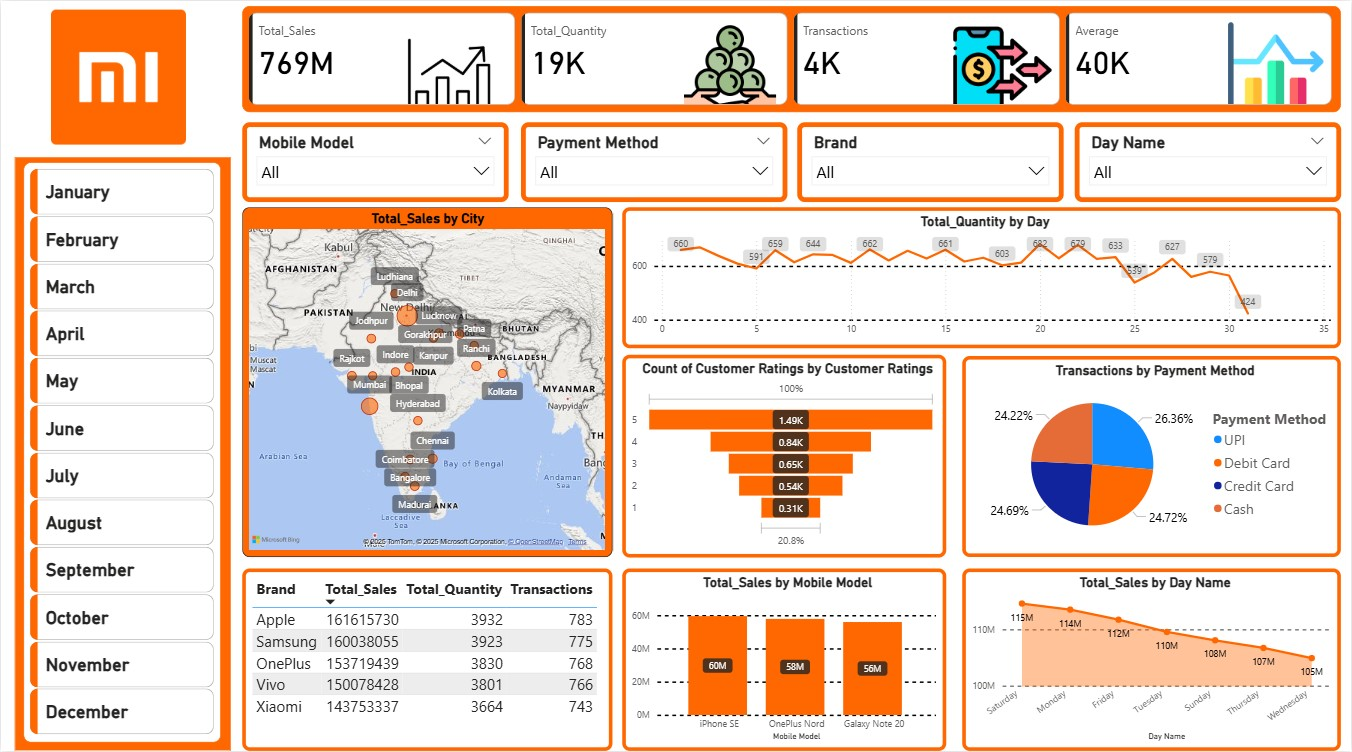

Layout of this report page (visuals, bound fields, positions):
{"tool":"powerbi","page":{"name":"Page 1","canvas":[1800,1000],"ordinal":0},"visuals":[{"type":"image","box":[6.7,6.7,300,190],"z":0},{"type":"shape","box":[18.3,208.3,288.3,791.7],"z":1000},{"type":"advancedSlicerVisual","fields":{"Values":["Mobile Sales Data.Date.Variation.Date Hierarchy.Month"]},"box":[30,215,263.3,773.3],"z":2000},{"type":"cardVisual","fields":{"Data":["Mobile Sales Data.Total_Sales","Mobile Sales Data.Total_Quantity","Mobile Sales Data.Transactions","Mobile Sales Data.Average"]},"box":[321.7,6.7,1465,141.7],"z":3000},{"type":"map","fields":{"Category":["Mobile Sales Data.City"],"Size":["Mobile Sales Data.Total_Sales"]},"box":[321.7,275,493.3,466.7],"z":4000},{"type":"lineChart","fields":{"Category":["Mobile Sales Data.Date.Variation.Date Hierarchy.Month","Mobile Sales Data.Date.Variation.Date Hierarchy.Day"],"Y":["Mobile Sales Data.Total_Quantity"]},"box":[828.3,275,958.3,188.3],"z":5000},{"type":"clusteredColumnChart","fields":{"Y":["Mobile Sales Data.Total_Sales"],"Category":["Mobile Sales Data.Mobile Model"]},"box":[828.3,756.7,431.7,243.3],"z":6000},{"type":"pieChart","fields":{"Category":["Mobile Sales Data.Payment Method"],"Y":["Mobile Sales Data.Transactions"]},"box":[1281.7,473.3,505,268.3],"z":7000},{"type":"funnel","fields":{"Category":["Mobile Sales Data.Customer Ratings"],"Y":["CountNonNull(Mobile Sales Data.Customer Ratings)"]},"box":[828.3,471.7,431.7,270],"z":8000},{"type":"areaChart","fields":{"Category":["Mobile Sales Data.Day Name"],"Y":["Mobile Sales Data.Total_Sales"]},"box":[1281.7,756.7,505,243.3],"z":9000},{"type":"tableEx","fields":{"Values":["Mobile Sales Data.Brand","Mobile Sales Data.Total_Sales","Mobile Sales Data.Total_Quantity","Mobile Sales Data.Transactions"]},"box":[321.7,756.7,493.3,243.3],"z":10000},{"type":"slicer","fields":{"Values":["Mobile Sales Data.Mobile Model"]},"box":[321.7,161.7,355,106.7],"z":11000},{"type":"slicer","fields":{"Values":["Mobile Sales Data.Payment Method"]},"box":[693.3,161.7,355,106.7],"z":12000},{"type":"slicer","fields":{"Values":["Mobile Sales Data.Brand"]},"box":[1061.7,161.7,355,106.7],"z":13000},{"type":"slicer","fields":{"Values":["Mobile Sales Data.Day Name"]},"box":[1431.7,161.7,355,106.7],"z":14000}]}

Visuals, with their boxes in screenshot pixels (x1, y1, x2, y2), scaled from the page's 1800x1000 canvas onto the 1352x752 screenshot:
image: x1=5, y1=5, x2=230, y2=148
shape: x1=14, y1=157, x2=230, y2=751
advancedSlicerVisual - Mobile Sales Data.Date.Variation.Date Hierarchy.Month: x1=23, y1=162, x2=220, y2=743
cardVisual - Mobile Sales Data.Total_Sales x Mobile Sales Data.Total_Quantity: x1=242, y1=5, x2=1342, y2=112
map - Mobile Sales Data.City x Mobile Sales Data.Total_Sales: x1=242, y1=207, x2=612, y2=558
lineChart - Mobile Sales Data.Date.Variation.Date Hierarchy.Month x Mobile Sales Data.Date.Variation.Date Hierarchy.Day: x1=622, y1=207, x2=1342, y2=348
clusteredColumnChart - Mobile Sales Data.Total_Sales x Mobile Sales Data.Mobile Model: x1=622, y1=569, x2=946, y2=751
pieChart - Mobile Sales Data.Payment Method x Mobile Sales Data.Transactions: x1=963, y1=356, x2=1342, y2=558
funnel - Mobile Sales Data.Customer Ratings x CountNonNull(Mobile Sales Data.Customer Ratings): x1=622, y1=355, x2=946, y2=558
areaChart - Mobile Sales Data.Day Name x Mobile Sales Data.Total_Sales: x1=963, y1=569, x2=1342, y2=751
tableEx - Mobile Sales Data.Brand x Mobile Sales Data.Total_Sales: x1=242, y1=569, x2=612, y2=751
slicer - Mobile Sales Data.Mobile Model: x1=242, y1=122, x2=508, y2=202
slicer - Mobile Sales Data.Payment Method: x1=521, y1=122, x2=787, y2=202
slicer - Mobile Sales Data.Brand: x1=797, y1=122, x2=1064, y2=202
slicer - Mobile Sales Data.Day Name: x1=1075, y1=122, x2=1342, y2=202
